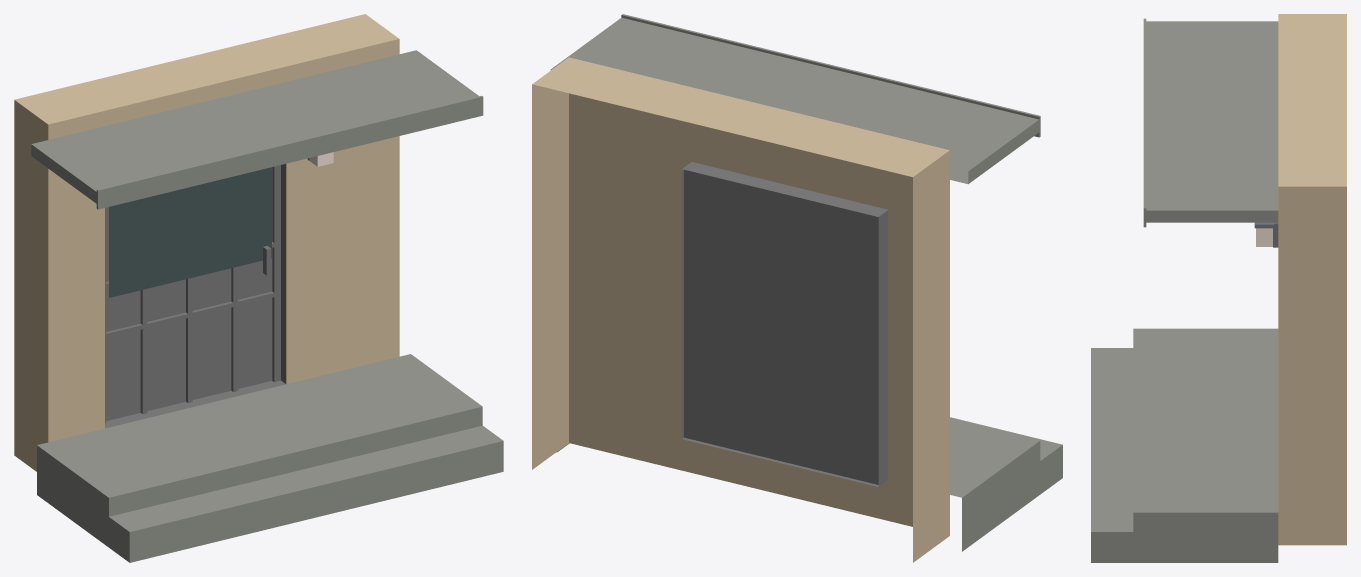
File: entrance_close.fbx
3 renders of one model, left to right at view 1: azimuth 30°, elevation 25°; view 2: azimuth 150°, elevation 25°; view 3: azimuth 270°, elevation 25°, orthographic. The views are drawn at different scales.
Parts seen in each view (by area): view 1: a2000/400/entrance_close; view 2: a2000/400/entrance_close; view 3: a2000/400/entrance_close.
Part boxes in pixels (x1,y1,x2,y2): a2000/400/entrance_close: [14, 14, 503, 562]; a2000/400/entrance_close: [532, 14, 1062, 562]; a2000/400/entrance_close: [1091, 14, 1346, 562].
Bounding box in the file's own units: 3.4 × 3.1 × 1.94.
